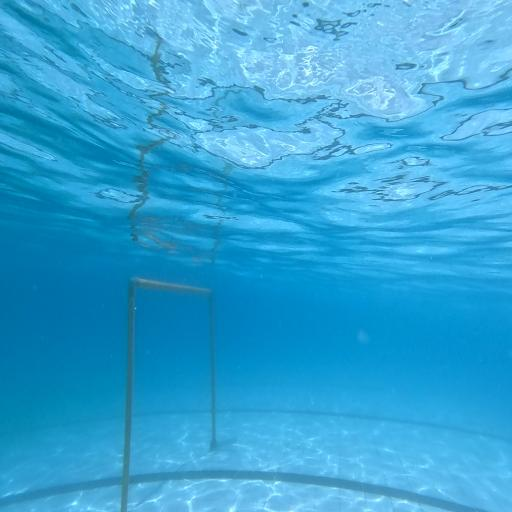gate: (120, 275, 216, 512)
